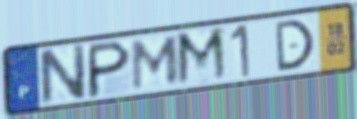1: (229, 22, 252, 80)
D: (272, 17, 316, 74)
M: (174, 25, 231, 89), (130, 34, 181, 93)
N: (35, 41, 88, 108)
P: (84, 38, 133, 100)
